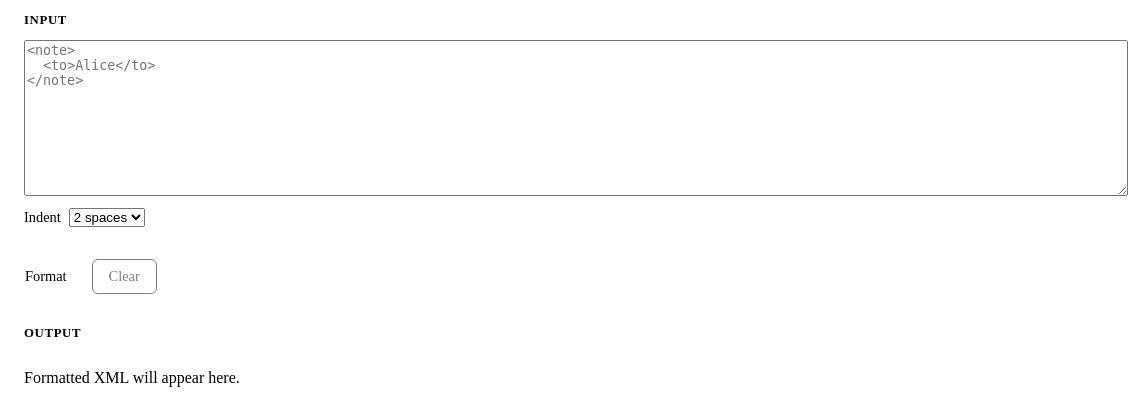
Scenario: XmlFormatterTool › shows an error for invalid XML
The image size is (1145, 413).
In the text box named "XML input": (576, 118) [24,40,1128,196], type "<a><b></a>"
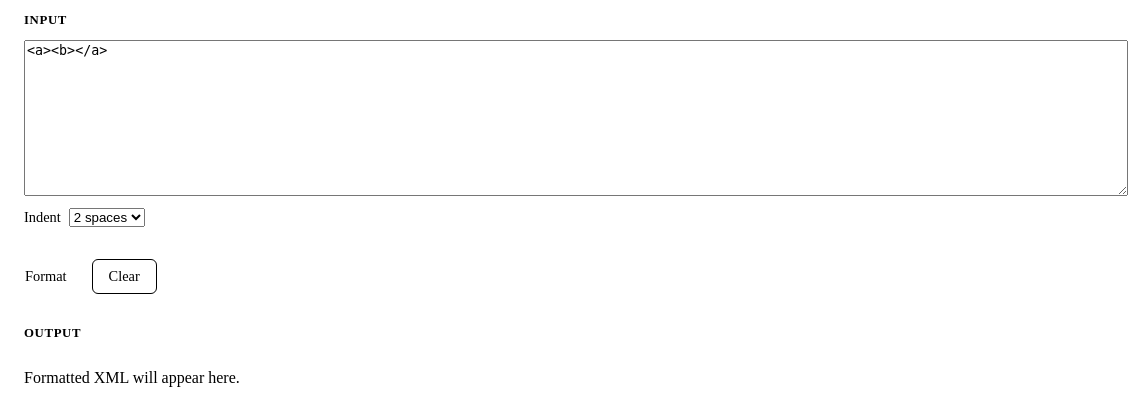
Click the button "Format": (46, 276) [8,259,84,294]
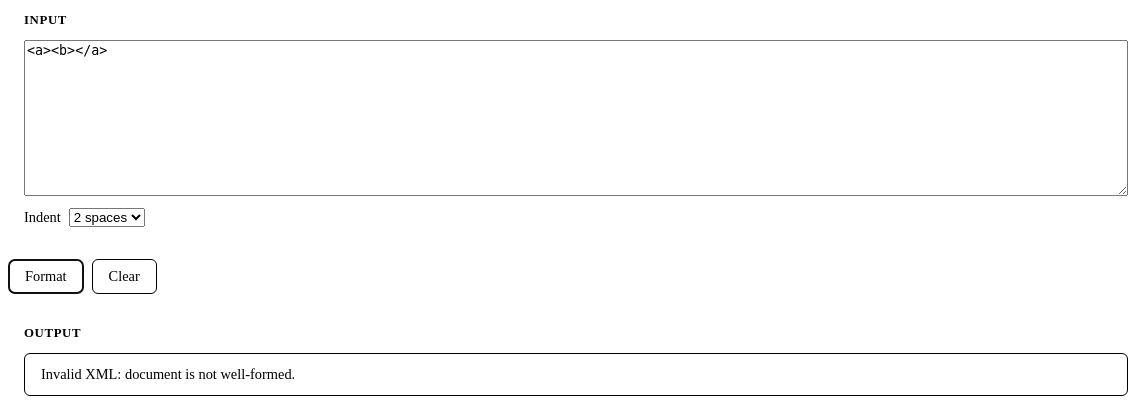
Expected: the message shows "Invalid XML", [41,366,295,382]
